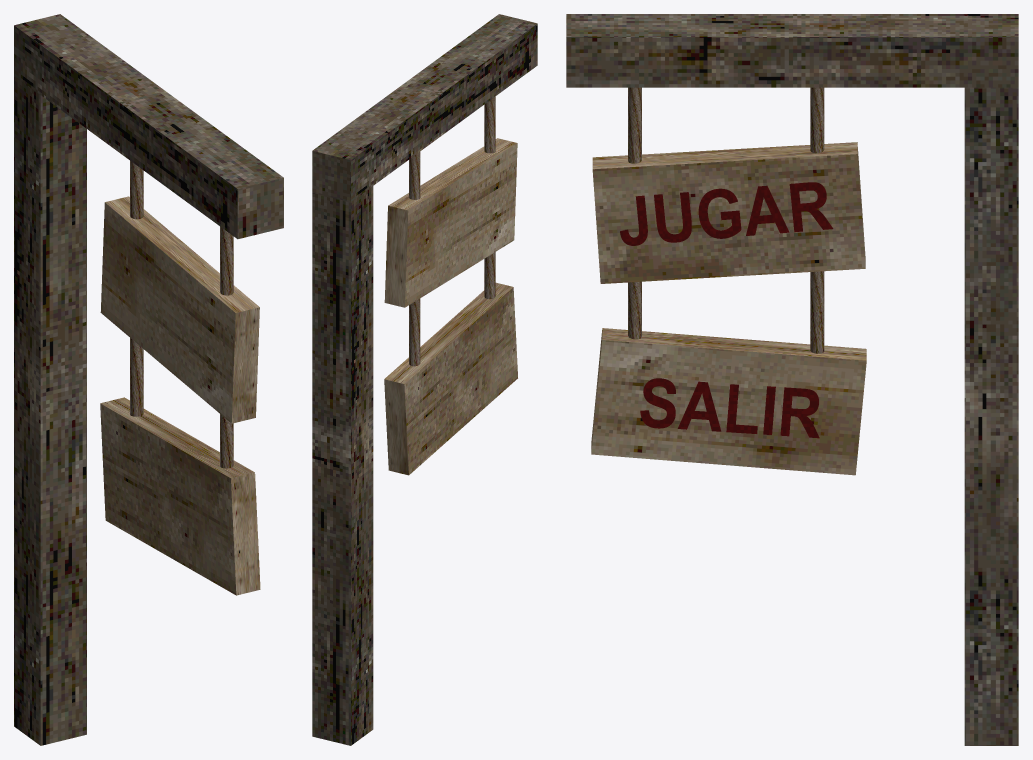
3 views of the same model, side by side, from view 1: azimuth 30°, elevation 25°; view 2: azimuth 150°, elevation 25°; view 3: azimuth 270°, elevation 25° (orthographic). The views are drawn at different scales.
Visible parts, largest first — view 1: Cube.001, Jugar-Box, Salir-Box, BézierCurve, BézierCurve.003, BézierCurve.002, BézierCurve.001; view 2: Cube.001, Salir-Box, Jugar-Box, BézierCurve, BézierCurve.003, BézierCurve.002, BézierCurve.001; view 3: Cube.001, Salir-Box, Jugar-Box, Text, Text.001, BézierCurve, BézierCurve.003, BézierCurve.002, BézierCurve.001.
Part boxes in pixels (box(x1,y1,x2,y2)): Cube.001: box(14, 14, 283, 745); Jugar-Box: box(100, 196, 259, 423); Salir-Box: box(100, 397, 260, 595); BézierCurve: box(130, 338, 143, 416); BézierCurve.003: box(220, 226, 233, 295); BézierCurve.002: box(130, 161, 143, 219); BézierCurve.001: box(220, 414, 233, 468); Cube.001: box(312, 14, 537, 745); Salir-Box: box(384, 282, 517, 475); Jugar-Box: box(384, 138, 517, 307); BézierCurve: box(409, 298, 420, 366); BézierCurve.003: box(484, 96, 495, 153); BézierCurve.002: box(409, 152, 420, 199); BézierCurve.001: box(484, 252, 495, 299); Cube.001: box(566, 14, 1018, 745); Salir-Box: box(591, 328, 866, 475); Jugar-Box: box(592, 142, 865, 283); Text: box(620, 182, 833, 245); Text.001: box(640, 378, 819, 438); BézierCurve: box(810, 271, 824, 353); BézierCurve.003: box(628, 87, 641, 163); BézierCurve.002: box(810, 87, 824, 153); BézierCurve.001: box(628, 281, 641, 339).
Size of the model in its own units: 0.4071 by 5.9 by 3.41.
